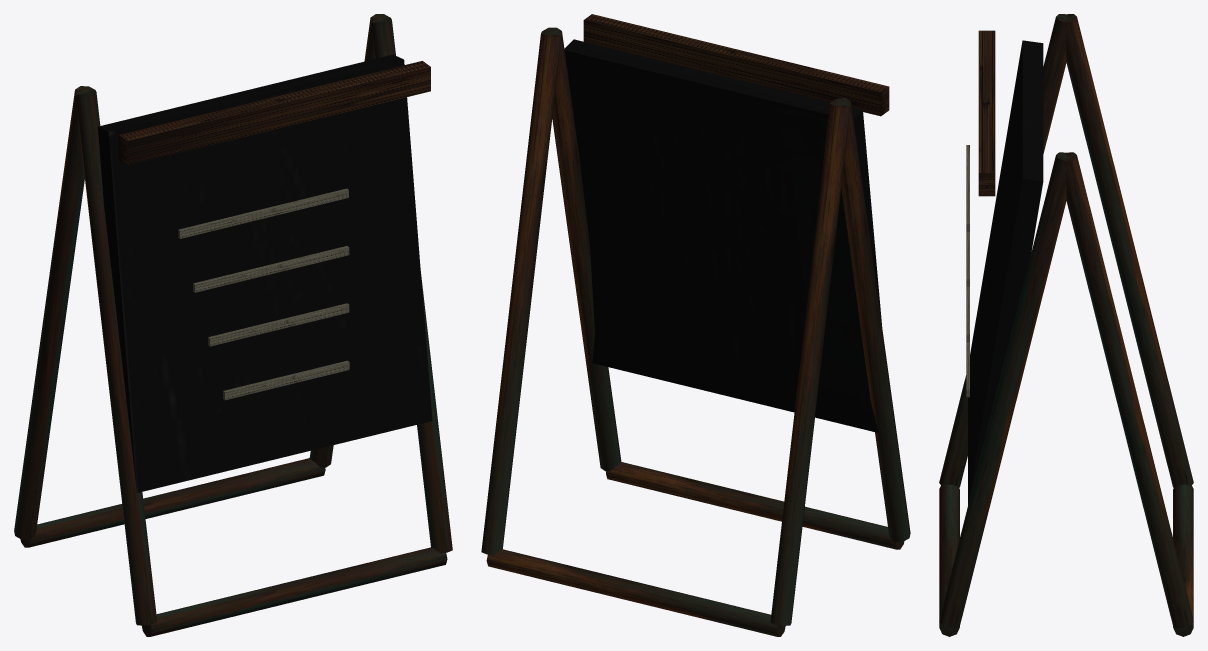
File: loose_sign.glb
3 renders of one model, left to right at view 1: azimuth 30°, elevation 25°; view 2: azimuth 150°, elevation 25°; view 3: azimuth 270°, elevation 25°, orthographic. The views are drawn at different scales.
Visible parts, largest first — view 1: DetachableBoard, ChippedWoodHeader, _MeshInstance3D_39752, _MeshInstance3D_39749, _MeshInstance3D_39754, _MeshInstance3D_39751, _MeshInstance3D_39753, FadedChalk0, FadedChalk1, FadedChalk2, FadedChalk3, _MeshInstance3D_39750; view 2: DetachableBoard, _MeshInstance3D_39749, _MeshInstance3D_39750, ChippedWoodHeader, _MeshInstance3D_39752, _MeshInstance3D_39753, _MeshInstance3D_39751, _MeshInstance3D_39754; view 3: DetachableBoard, _MeshInstance3D_39750, _MeshInstance3D_39753, _MeshInstance3D_39749, _MeshInstance3D_39752, ChippedWoodHeader, _MeshInstance3D_39751, _MeshInstance3D_39754.
Part boxes in pixels (x1,y1,x2,y2): DetachableBoard: [98, 54, 432, 492]; ChippedWoodHeader: [118, 61, 430, 165]; _MeshInstance3D_39752: [76, 90, 157, 625]; _MeshInstance3D_39749: [14, 86, 94, 539]; _MeshInstance3D_39754: [142, 547, 447, 636]; _MeshInstance3D_39751: [20, 458, 325, 547]; _MeshInstance3D_39753: [371, 18, 452, 553]; FadedChalk0: [178, 188, 348, 238]; FadedChalk1: [193, 246, 349, 292]; FadedChalk2: [208, 303, 349, 346]; FadedChalk3: [223, 360, 349, 400]; _MeshInstance3D_39750: [309, 14, 390, 467]; DetachableBoard: [564, 39, 881, 432]; _MeshInstance3D_39749: [770, 102, 849, 625]; _MeshInstance3D_39750: [481, 31, 560, 555]; ChippedWoodHeader: [583, 14, 889, 116]; _MeshInstance3D_39752: [831, 98, 910, 541]; _MeshInstance3D_39753: [542, 27, 621, 471]; _MeshInstance3D_39751: [486, 549, 785, 636]; _MeshInstance3D_39754: [606, 462, 904, 549]; DetachableBoard: [968, 40, 1043, 504]; _MeshInstance3D_39750: [1066, 152, 1193, 627]; _MeshInstance3D_39753: [939, 152, 1066, 627]; _MeshInstance3D_39749: [1066, 14, 1193, 487]; _MeshInstance3D_39752: [939, 14, 1066, 487]; ChippedWoodHeader: [978, 30, 995, 196]; _MeshInstance3D_39751: [1173, 484, 1193, 636]; _MeshInstance3D_39754: [939, 484, 959, 636].
Bounding box in the file's own units: 0.746 × 1.14 × 0.5449.
4 materials, 4 textured.
